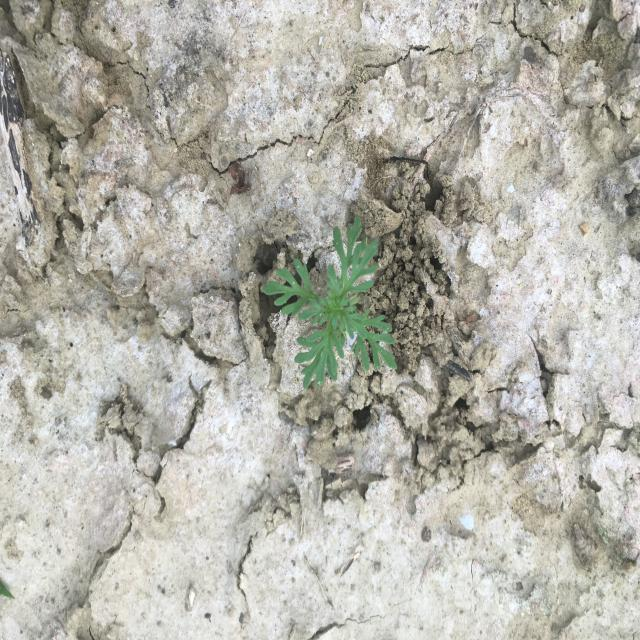Ragweed: (260, 215, 399, 391)
